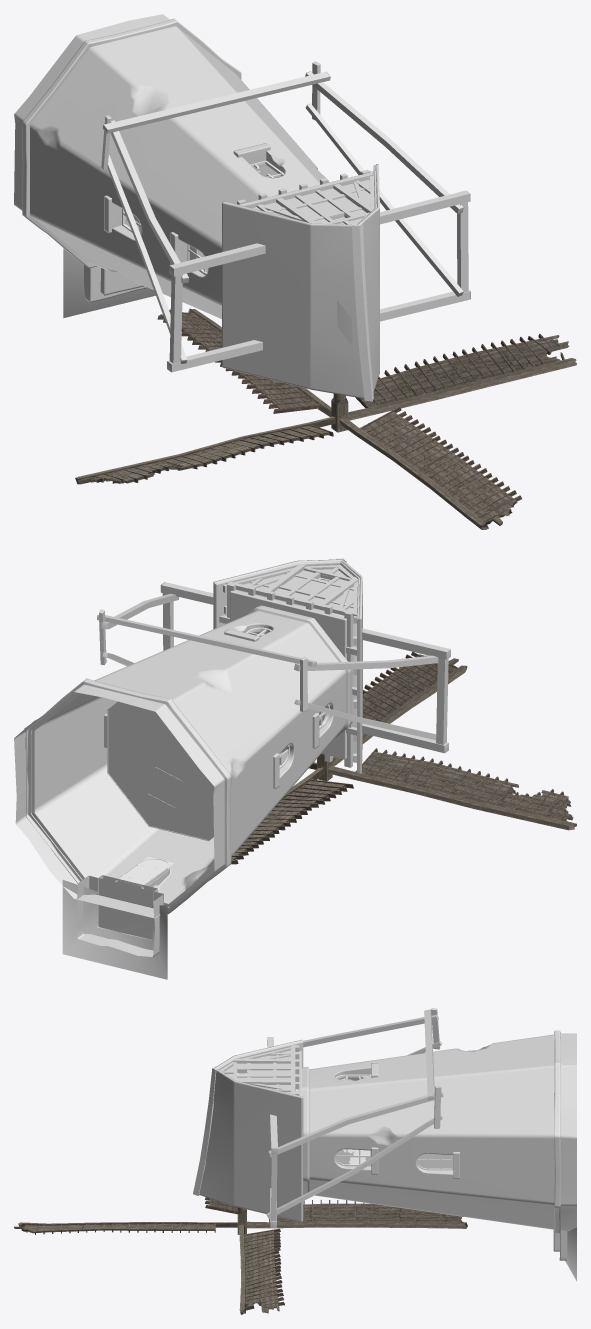
The model's file is hd_bld_EU_259_WindMill_01.glb.
3 renders of one model, top to bottom at view 1: azimuth 30°, elevation 25°; view 2: azimuth 150°, elevation 25°; view 3: azimuth 270°, elevation 25°, orthographic. The views are drawn at different scales.
Parts seen in each view (by area): view 1: set_4_group_0, set_0_group_0, set_3_group_0, set_6_group_0, set_5_group_0, set_7_group_0, set_1_group_0, set_2_group_0; view 2: set_4_group_0, set_0_group_0, set_2_group_0, set_6_group_0, set_5_group_0, set_1_group_0, set_3_group_0, set_7_group_0; view 3: set_4_group_0, set_3_group_0, set_0_group_0, set_6_group_0, set_5_group_0, set_7_group_0, set_2_group_0, set_1_group_0.
Part boxes in pixels (x1,y1,x2,y2): set_4_group_0: [14, 14, 370, 319]; set_0_group_0: [75, 308, 576, 529]; set_3_group_0: [222, 164, 379, 398]; set_6_group_0: [101, 61, 470, 372]; set_5_group_0: [22, 18, 270, 302]; set_7_group_0: [122, 160, 373, 401]; set_1_group_0: [63, 248, 155, 317]; set_2_group_0: [126, 165, 376, 346]; set_4_group_0: [14, 569, 353, 918]; set_0_group_0: [231, 651, 576, 864]; set_2_group_0: [107, 561, 359, 840]; set_6_group_0: [97, 564, 450, 807]; set_5_group_0: [24, 605, 352, 957]; set_1_group_0: [62, 880, 167, 979]; set_3_group_0: [213, 559, 362, 774]; set_7_group_0: [116, 558, 346, 888]; set_4_group_0: [225, 1033, 576, 1230]; set_3_group_0: [199, 1039, 302, 1222]; set_0_group_0: [14, 1197, 467, 1314]; set_6_group_0: [219, 1008, 443, 1227]; set_5_group_0: [301, 1030, 567, 1260]; set_7_group_0: [193, 1066, 453, 1195]; set_2_group_0: [217, 1041, 303, 1220]; set_1_group_0: [565, 1227, 576, 1281].
Bounding box in the file's own units: 20.59 × 10.92 × 26.
Materials: 8 (1 with a texture image).
